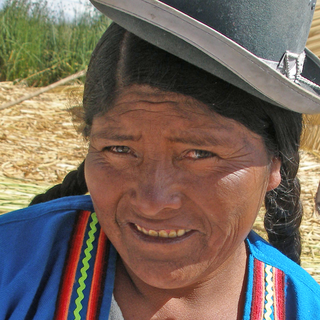eye: (174, 144, 222, 165), (93, 141, 140, 162)
